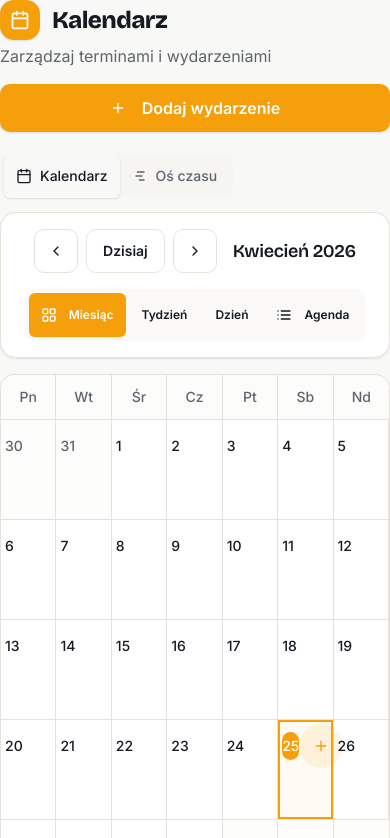
Test: Calendar › [REGRESSION] month view day-cell two-step activation › should still open dialog on double-click (desktop shortcut)
Double-click the 1st cell "30".
double_click(29, 470)  # box [1,420,56,520]
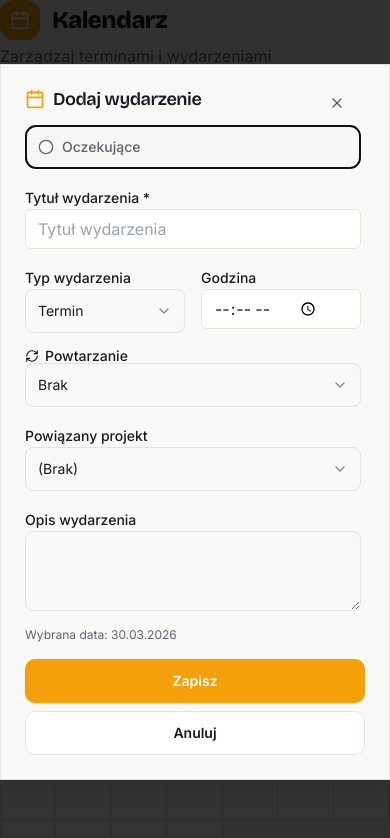
Check: the dialog is shown
